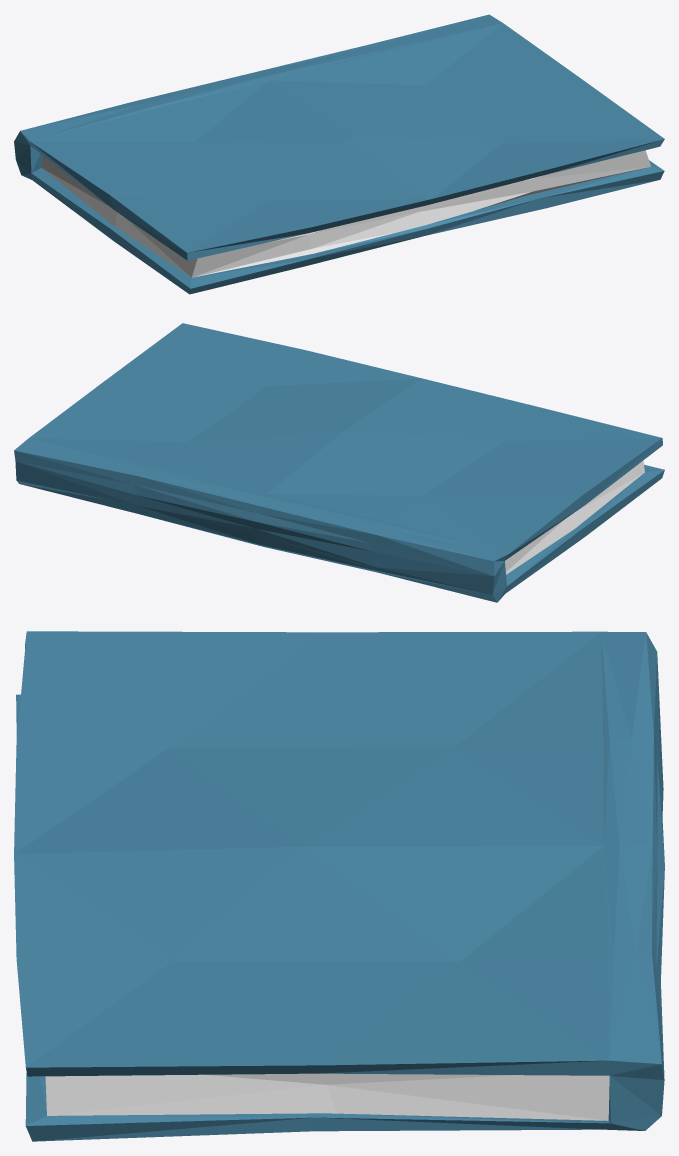
Rendered from item_bluebook.fbx.
3 renders of one model, top to bottom at view 1: azimuth 30°, elevation 25°; view 2: azimuth 150°, elevation 25°; view 3: azimuth 270°, elevation 25°, orthographic. The views are drawn at different scales.
Visible parts, largest first — view 1: item_bluebook; view 2: item_bluebook; view 3: item_bluebook.
Boxes of the visible parts, x1=… form: item_bluebook: x1=14, y1=14, x2=664, y2=294; item_bluebook: x1=14, y1=323, x2=664, y2=602; item_bluebook: x1=14, y1=631, x2=664, y2=1141.
Size of the model in its own units: 46.29 by 4.48 by 29.32.
